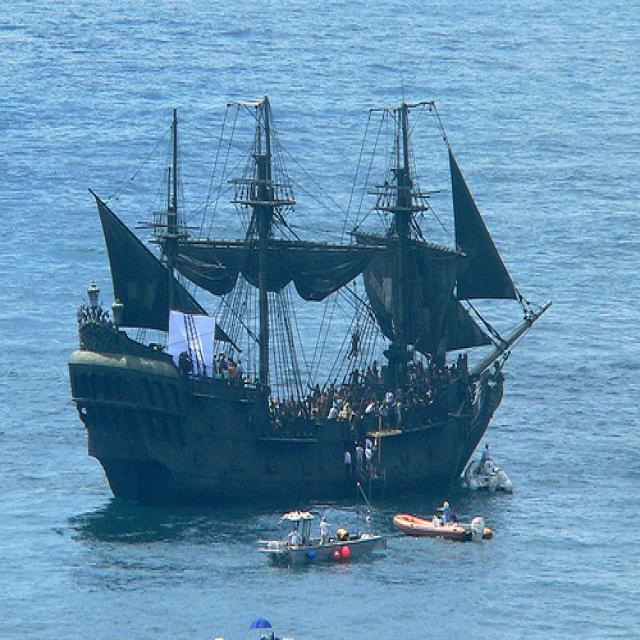Ship: (72, 98, 518, 518)
